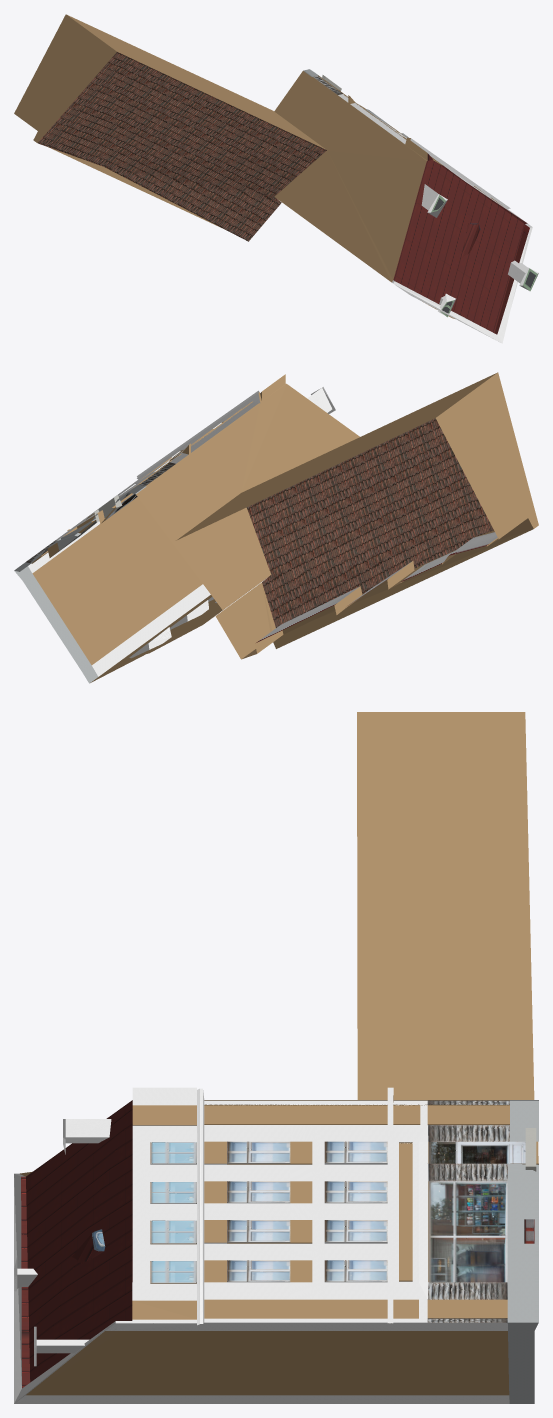
Rendered from Vana-Posti_4-origo.obj.
The picture shows the model from 3 angles, top to bottom: view 1: azimuth 30°, elevation 25°; view 2: azimuth 150°, elevation 25°; view 3: azimuth 270°, elevation 25°; orthographic projection. The views are drawn at different scales.
Visible parts, largest first — view 1: vana_posti_4; view 2: vana_posti_4; view 3: vana_posti_4.
Boxes of the visible parts, x1,y1,x2,y2 form: vana_posti_4: (14,14,538,343); vana_posti_4: (14,372,538,683); vana_posti_4: (14,712,538,1403).
Size of the model in its own units: 26.62 by 18 by 18.36.
